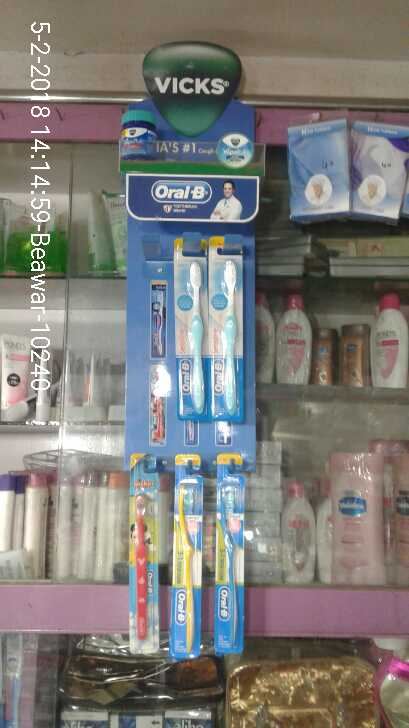pharmacy: (168, 452, 209, 659), (126, 450, 166, 658), (172, 238, 215, 422), (210, 243, 244, 424), (215, 458, 245, 654), (116, 108, 152, 155)
